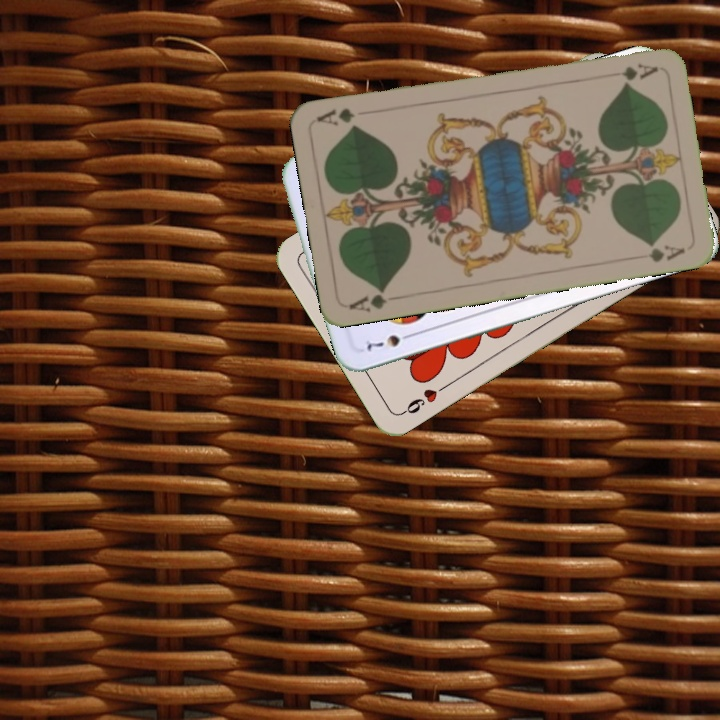GA: (345, 283, 404, 314), (601, 59, 660, 83)
H9: (398, 380, 451, 417)
S7: (362, 329, 417, 353)
